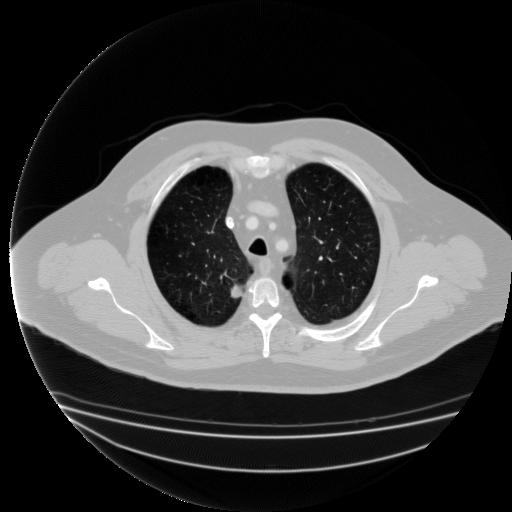nodule: (227, 284, 245, 302)
